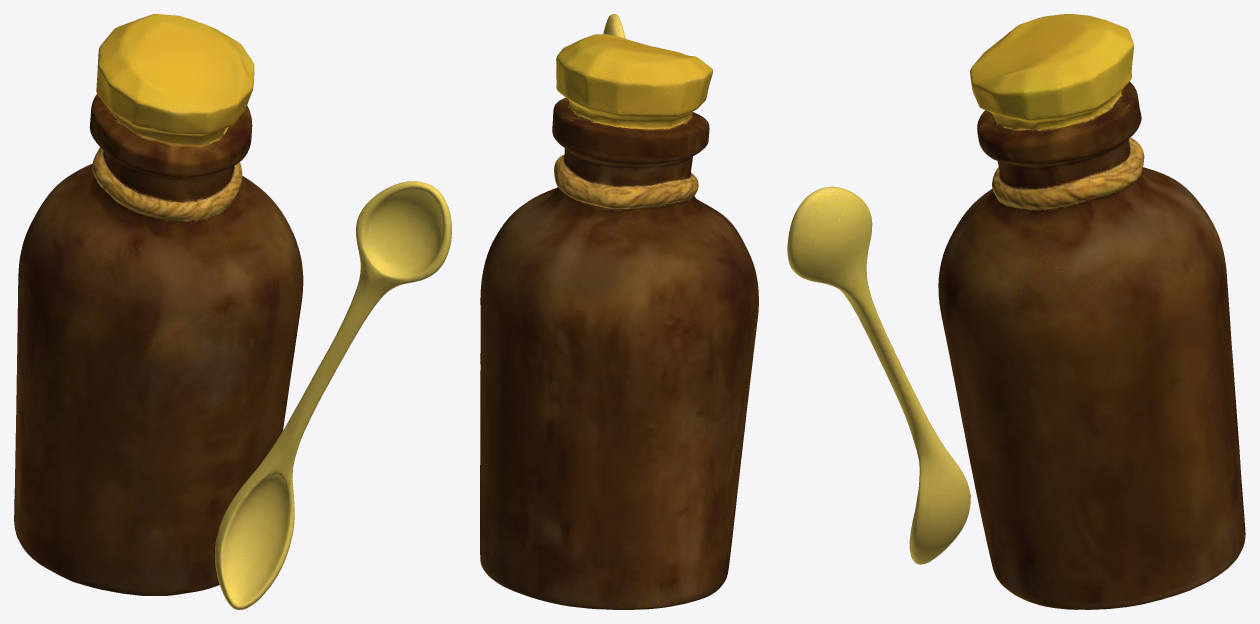
File: agatha_medicine.glb
3 renders of one model, left to right at view 1: azimuth 30°, elevation 25°; view 2: azimuth 150°, elevation 25°; view 3: azimuth 270°, elevation 25°, orthographic. The views are drawn at different scales.
Bounding box in the file's own units: 0.4926 × 0.9158 × 0.6995.
1 material, 1 textured.
